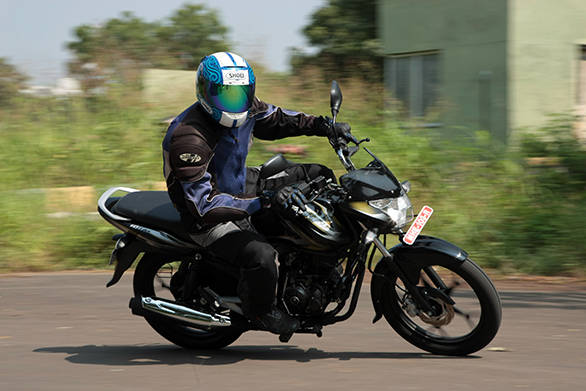helmet: (194, 53, 261, 119)
